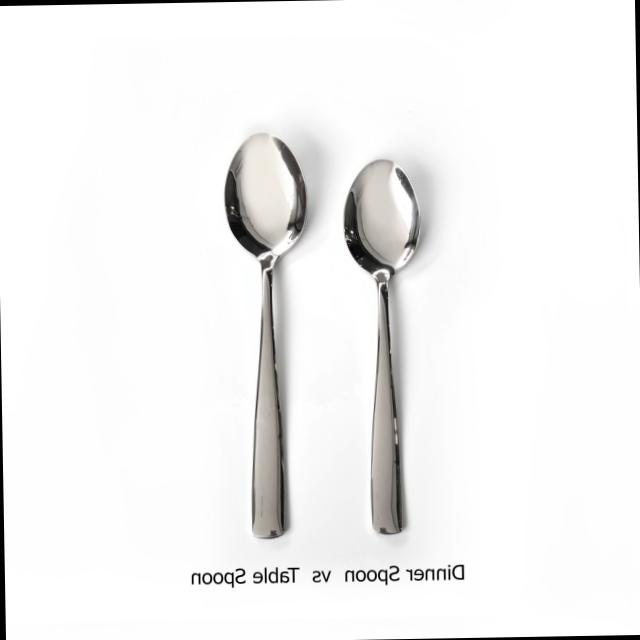spoon: (210, 113, 324, 562)
